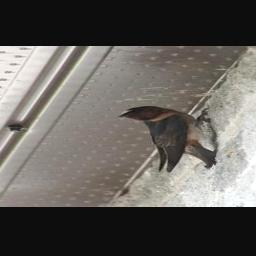Swallow: (119, 106, 221, 172)
